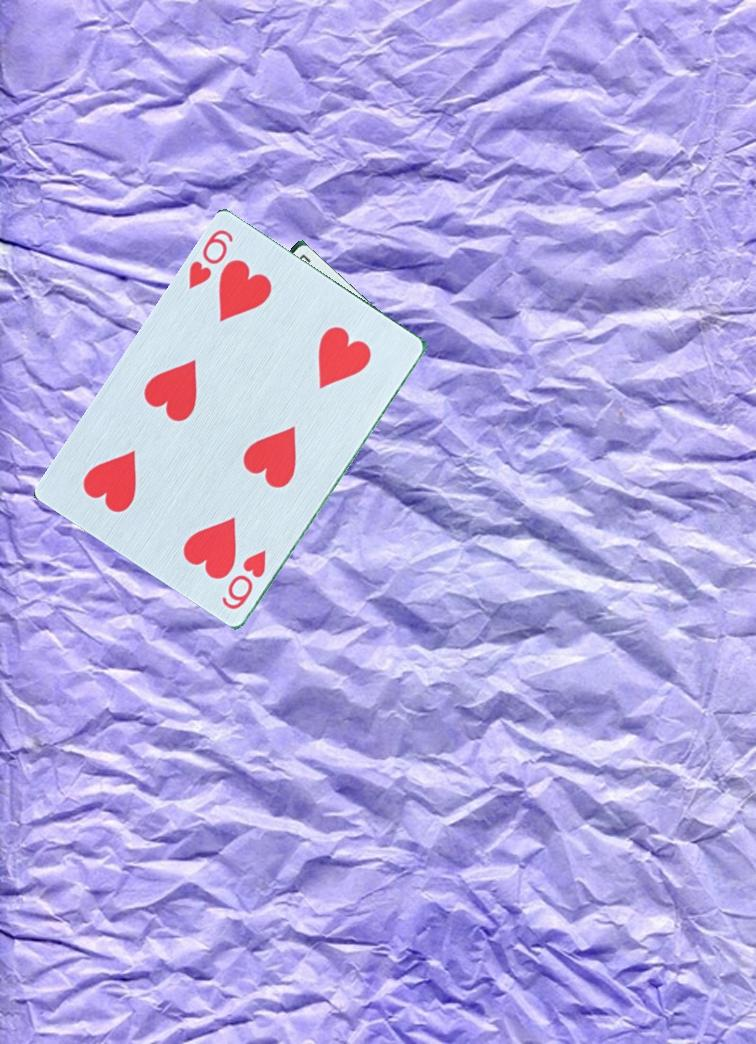6h: (218, 546, 270, 614), (185, 226, 237, 293)
